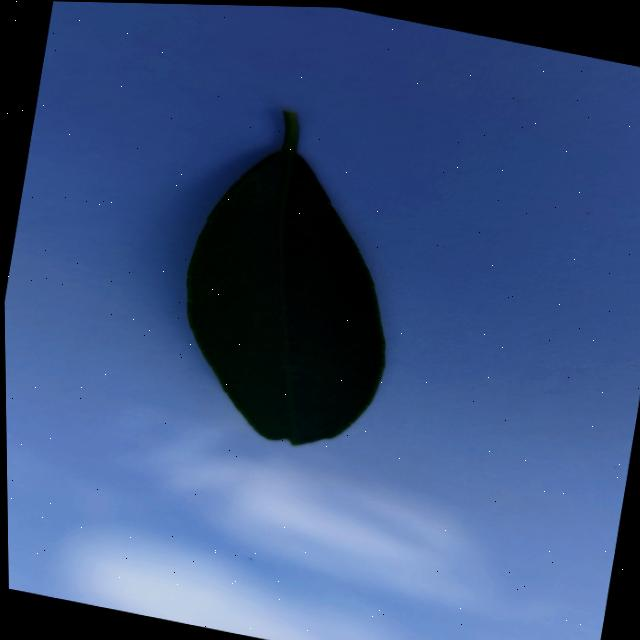greening: (186, 149, 383, 443)
